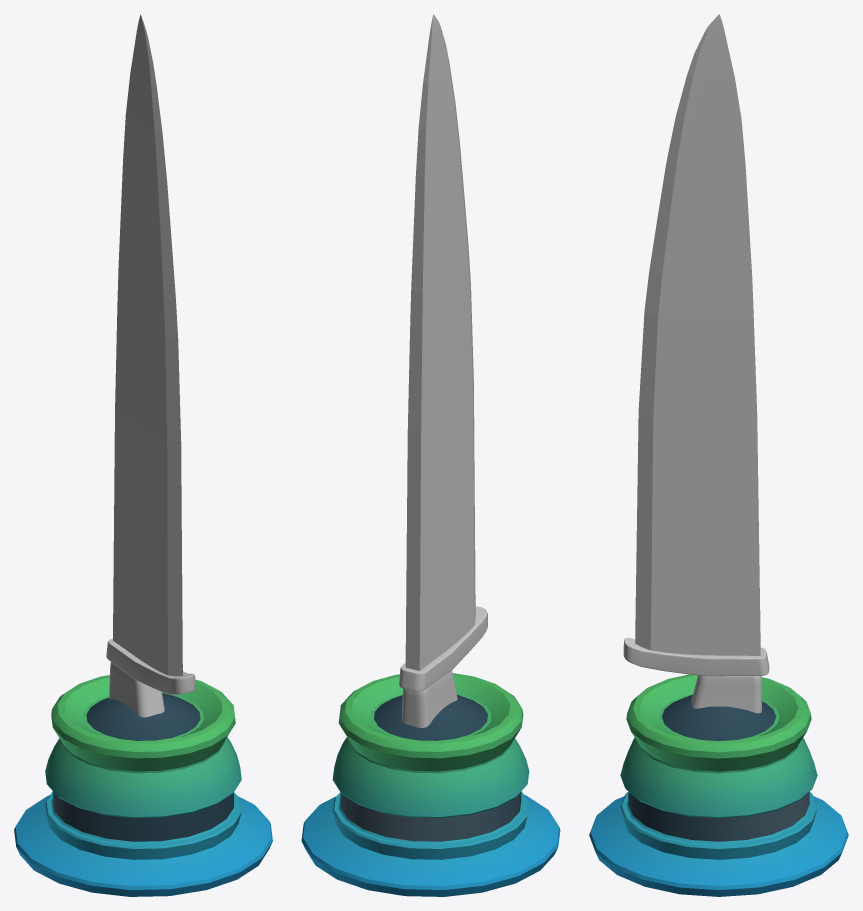
Rendered from 1_Knife_Module.fbx.
3 renders of one model, left to right at view 1: azimuth 30°, elevation 25°; view 2: azimuth 150°, elevation 25°; view 3: azimuth 270°, elevation 25°, orthographic.
Parts seen in each view (by area): view 1: Knife_Module, Knife; view 2: Knife_Module, Knife; view 3: Knife, Knife_Module.
Part boxes in pixels (bbox=[...]): Knife_Module: bbox=[14, 675, 272, 896]; Knife: bbox=[106, 14, 195, 717]; Knife_Module: bbox=[301, 673, 560, 896]; Knife: bbox=[399, 14, 487, 727]; Knife: bbox=[623, 14, 769, 713]; Knife_Module: bbox=[589, 674, 848, 896].
Bounding box in the file's own units: 49.14 × 181 × 49.14.
